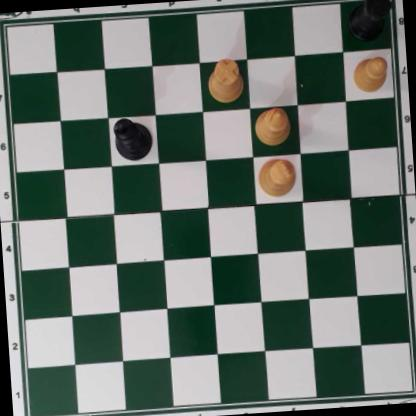black-king: (110, 116, 154, 162)
black-rook: (344, 0, 394, 43)
white-bishop: (254, 106, 290, 147)
white-king: (255, 156, 297, 198)
white-pawn: (351, 54, 390, 93)
white-rook: (206, 58, 246, 103)
